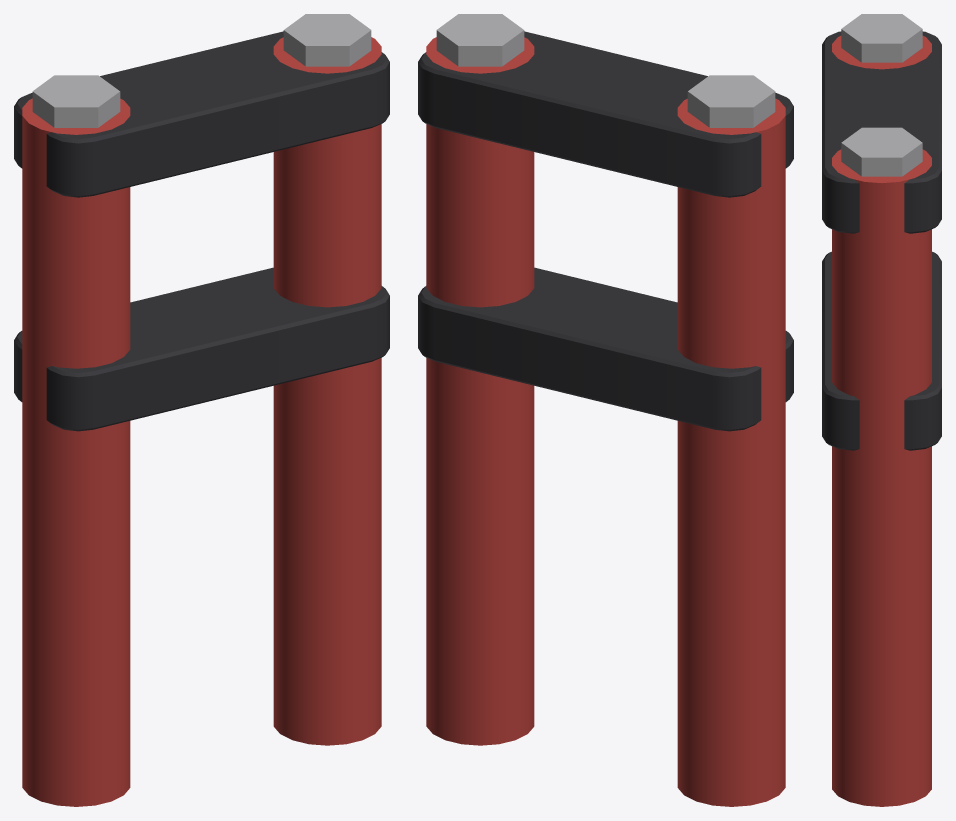
Rendered from roader_usd_black_upper.glb.
3 views of the same model, side by side, from view 1: azimuth 30°, elevation 25°; view 2: azimuth 150°, elevation 25°; view 3: azimuth 270°, elevation 25° (orthographic). The views are drawn at different scales.
Visible parts, largest first — view 1: lod0; view 2: lod0; view 3: lod0.
Part boxes in pixels (x1,y1,x2,y2): lod0: (14, 14, 389, 806); lod0: (418, 14, 793, 806); lod0: (822, 14, 941, 806).
Size of what is drawn, in the model's own units: 0.248 by 0.474 by 0.08.
